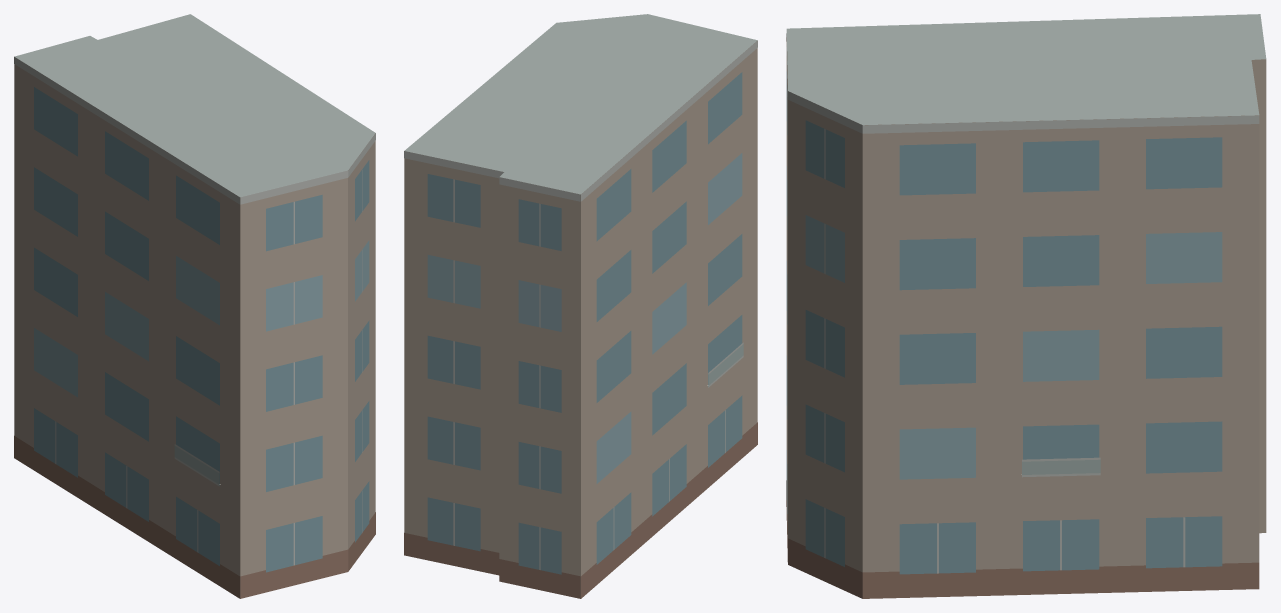
Rendered from survey-upis-32992023.glb.
The picture shows the model from 3 angles, left to right: view 1: azimuth 30°, elevation 25°; view 2: azimuth 150°, elevation 25°; view 3: azimuth 270°, elevation 25°; orthographic projection. The views are drawn at different scales.
Visible parts, largest first — view 1: survey-upis-32992023.tmp; view 2: survey-upis-32992023.tmp; view 3: survey-upis-32992023.tmp.
Boxes of the visible parts, x1,y1,x2,y2 form: survey-upis-32992023.tmp: [14, 14, 375, 598]; survey-upis-32992023.tmp: [404, 14, 757, 598]; survey-upis-32992023.tmp: [786, 14, 1266, 598].
Size of the model in its own units: 6.75 by 13.4 by 12.31.
